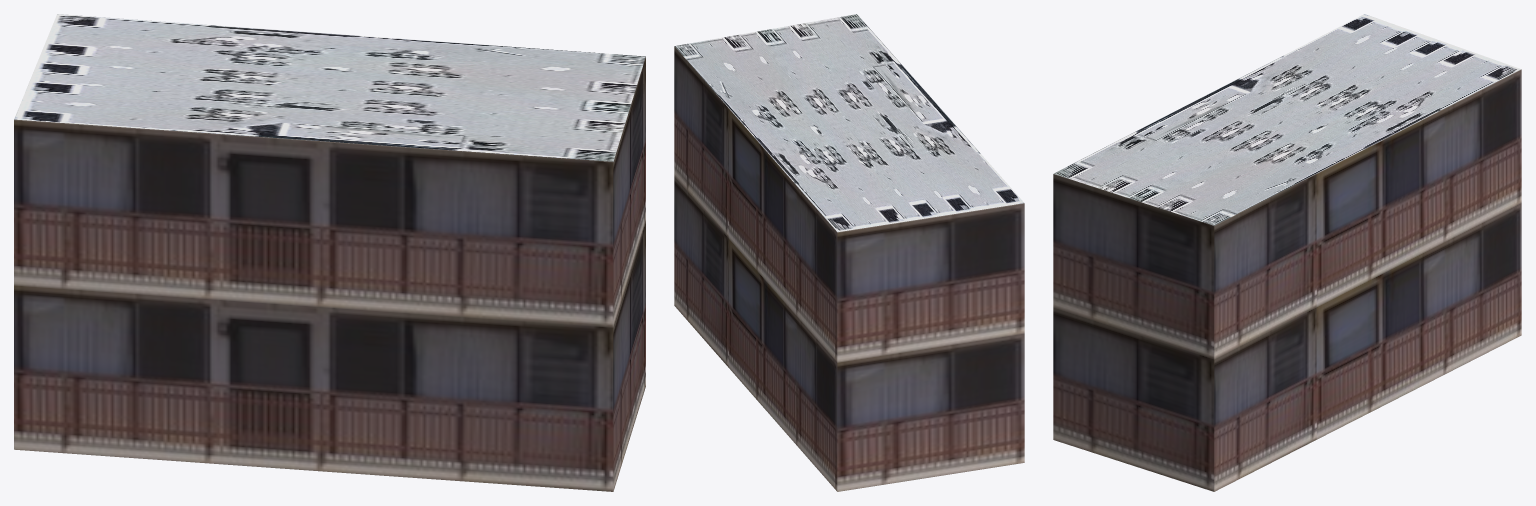
File: ResTex__1876.fbx
The picture shows the model from 3 angles, left to right: view 1: azimuth 30°, elevation 25°; view 2: azimuth 150°, elevation 25°; view 3: azimuth 270°, elevation 25°; orthographic projection. The views are drawn at different scales.
Visible parts, largest first — view 1: CityEngineMaterial_6_m, CityEngineMaterial_m; view 2: CityEngineMaterial_6_m, CityEngineMaterial_m; view 3: CityEngineMaterial_6_m, CityEngineMaterial_m.
Boxes of the visible parts, <box> form: CityEngineMaterial_6_m: <box>14,57,645,491</box>; CityEngineMaterial_m: <box>14,14,645,161</box>; CityEngineMaterial_6_m: <box>674,46,1024,491</box>; CityEngineMaterial_m: <box>674,14,1024,232</box>; CityEngineMaterial_6_m: <box>1053,69,1521,491</box>; CityEngineMaterial_m: <box>1053,14,1521,225</box>.
Bounding box in the file's own units: 10.24 × 6 × 9.57.
2 materials, 2 textured.
